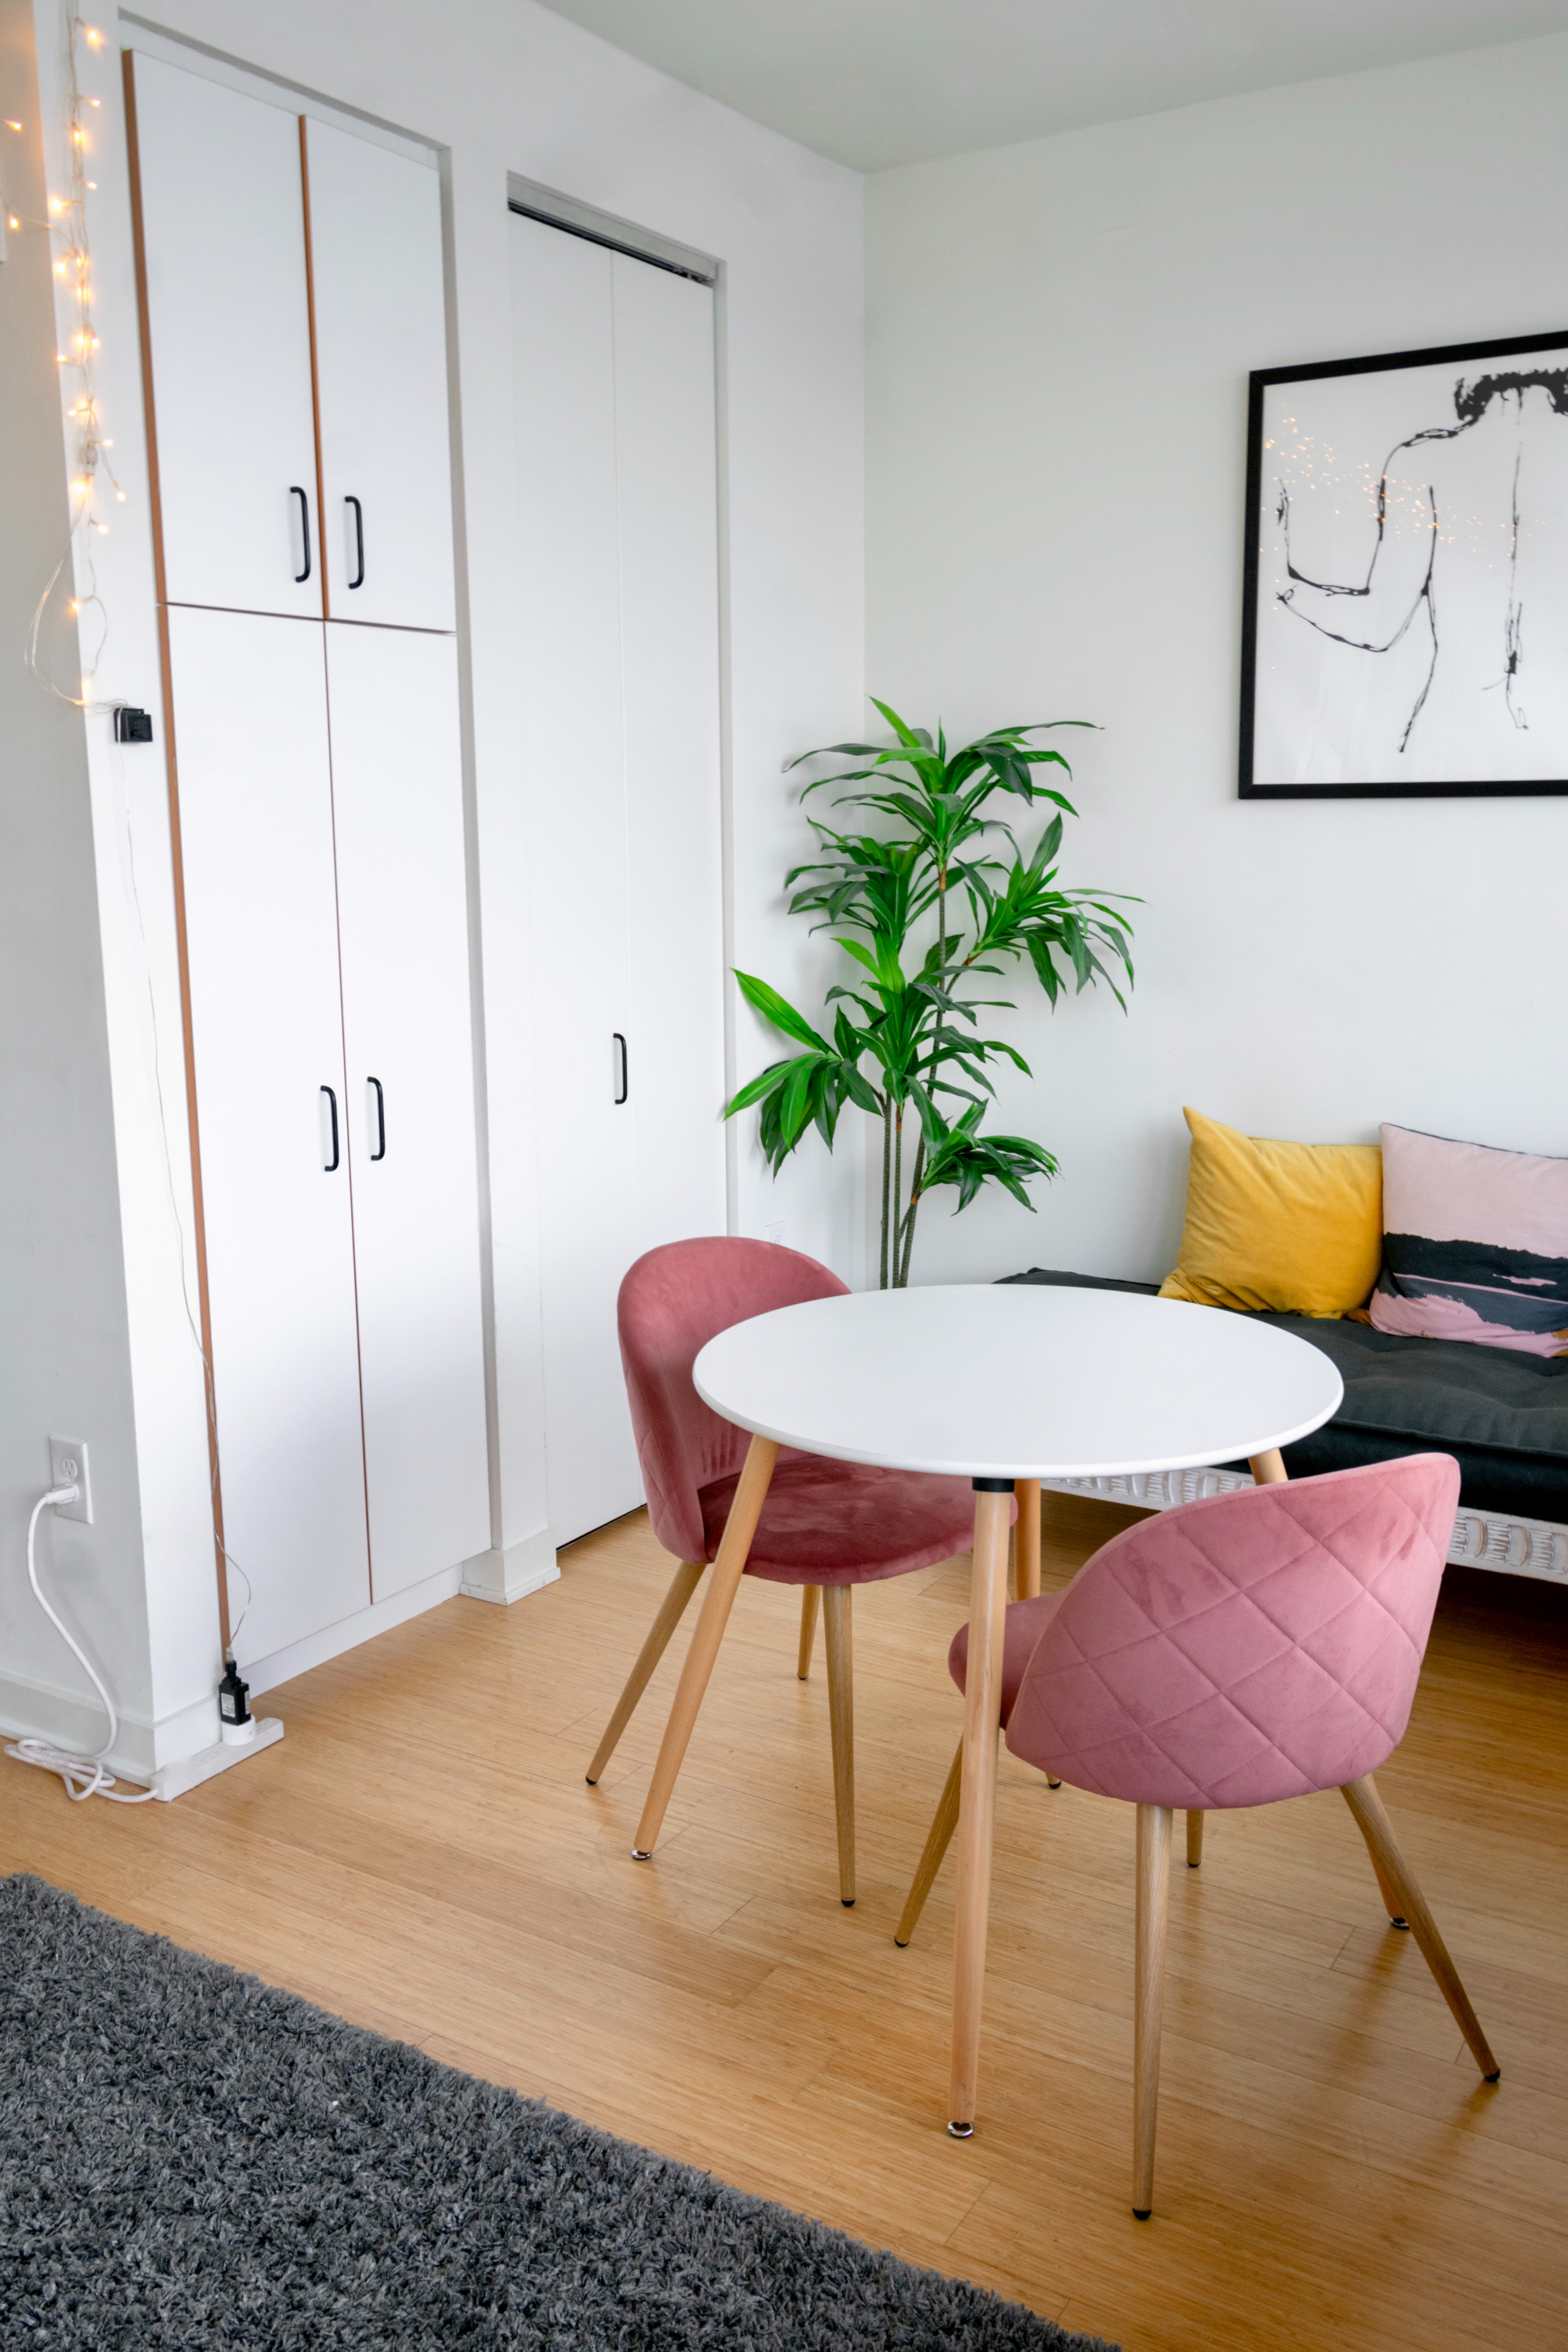Chair: (913, 1424, 1512, 2198)
Painting: (1223, 343, 1568, 845)
Plant: (738, 689, 1155, 1267)
